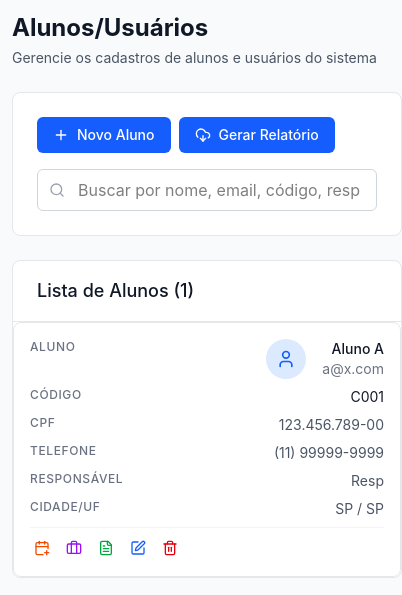
it: Students page › filters by search term
Type "inexistente" into the field with placeholder "Buscar por nome" at (207, 190), box 37,169 -> 377,211
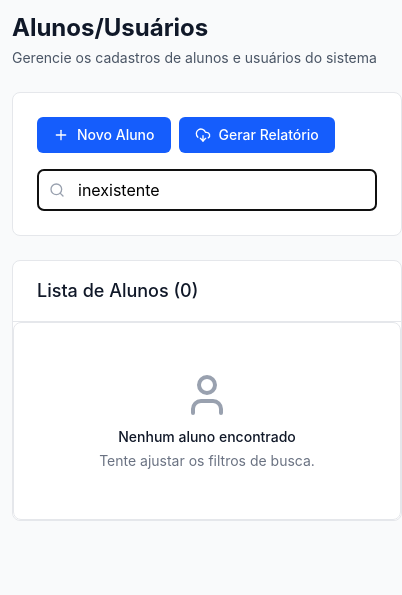
Expected: the text "Aluno A" is gone
